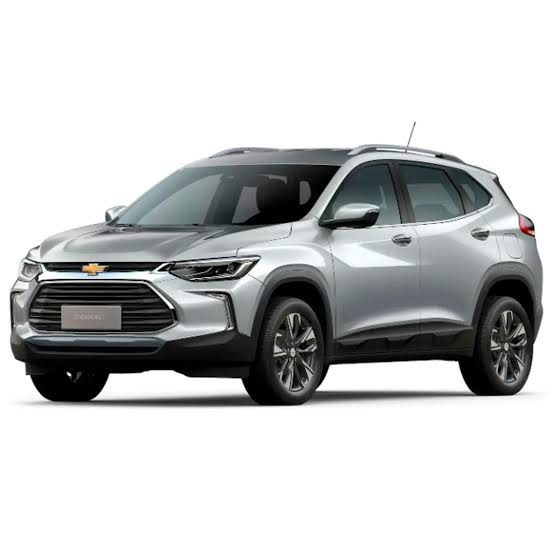car: (11, 142, 550, 411), (6, 145, 543, 397)
